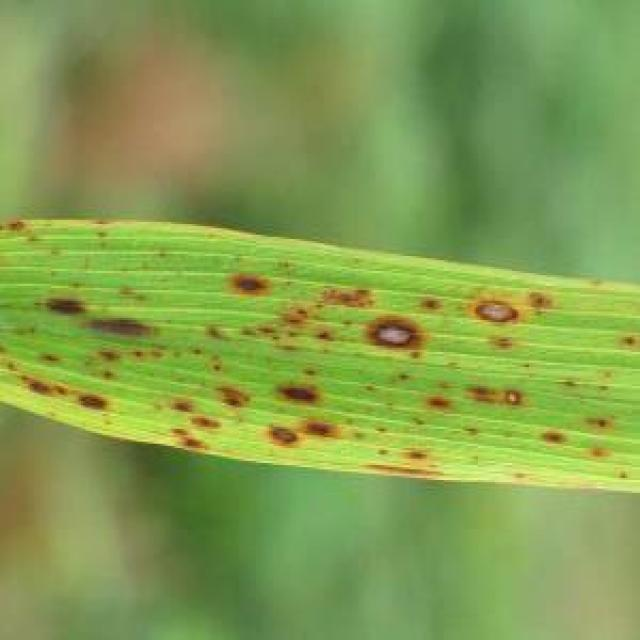Brown_Spot: (243, 307, 342, 360), (16, 368, 115, 416), (158, 402, 227, 455), (362, 441, 434, 478), (369, 314, 420, 354), (90, 316, 157, 342), (216, 383, 250, 420), (42, 293, 87, 320), (476, 298, 516, 328), (228, 270, 273, 295), (304, 423, 347, 447), (281, 381, 317, 405), (576, 446, 617, 466), (268, 430, 305, 450), (538, 426, 570, 447), (584, 412, 612, 436), (418, 400, 456, 410), (508, 390, 525, 411), (616, 335, 637, 350), (99, 352, 116, 362)
